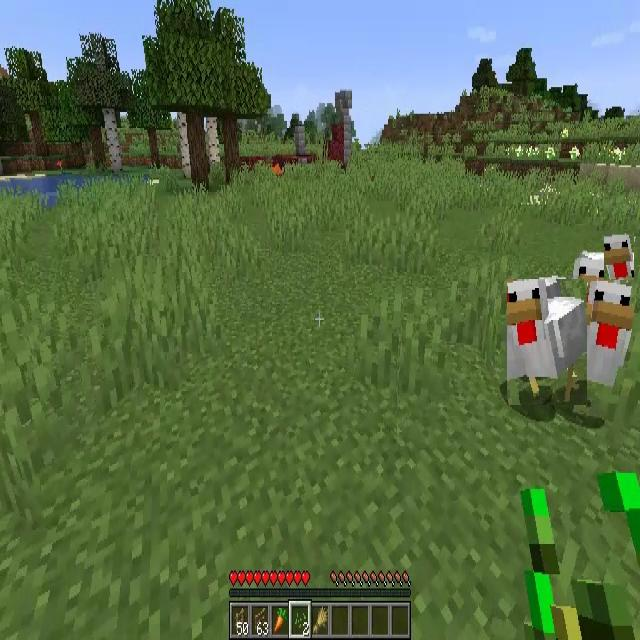duck: (508, 279, 588, 405), (584, 283, 632, 392), (604, 230, 634, 280)
